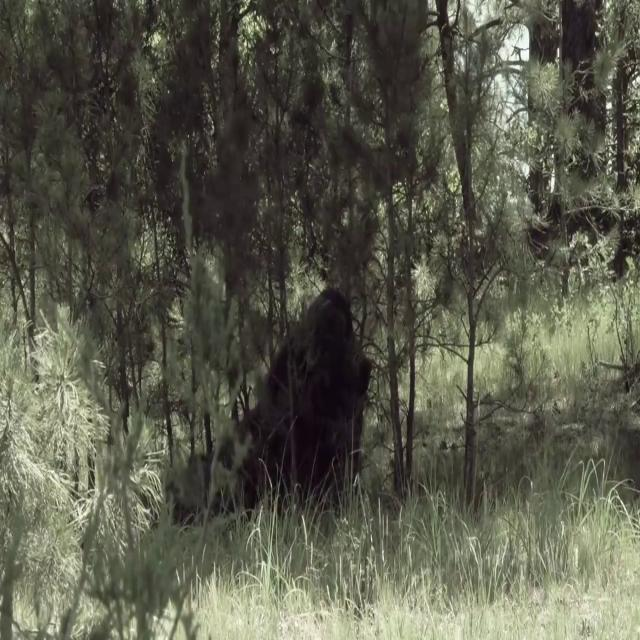human: (244, 287, 372, 513)
